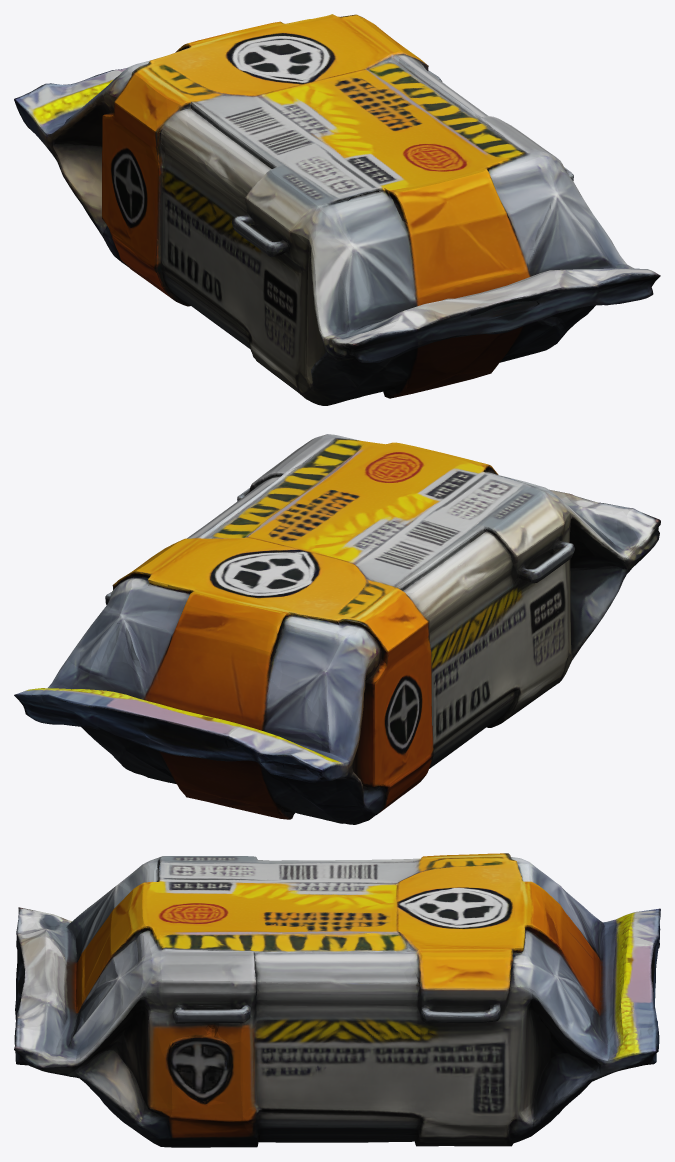
The model's file is EmergencyRationContainer.glb.
3 views of the same model, one above another, from view 1: azimuth 30°, elevation 25°; view 2: azimuth 150°, elevation 25°; view 3: azimuth 270°, elevation 25° (orthographic). The views are drawn at different scales.
Parts seen in each view (by area): view 1: world; view 2: world; view 3: world.
Boxes of the visible parts, x1,y1,x2,y2 form: world: [14, 14, 660, 405]; world: [14, 434, 660, 824]; world: [14, 853, 660, 1147].
Bounding box in the file's own units: 0.3712 × 0.2325 × 0.7006.
Materials: 1 (1 with a texture image).
